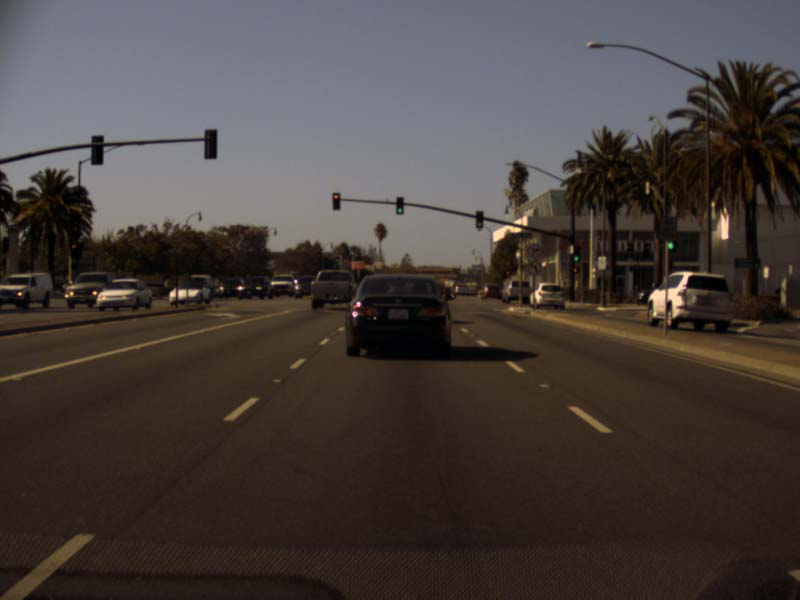Green: (664, 224, 676, 251), (395, 196, 403, 214), (476, 210, 483, 228), (572, 245, 579, 262)
Red: (332, 192, 340, 210), (70, 242, 78, 258)
